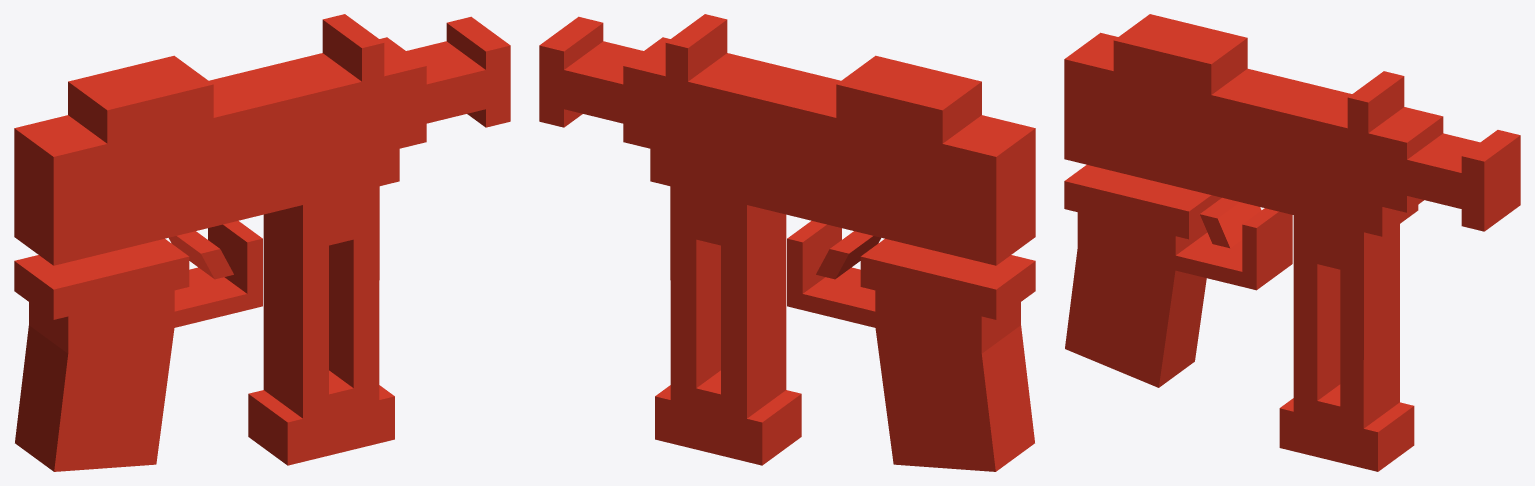
The model's file is Icon_UZI_01.fbx.
3 renders of one model, left to right at view 1: azimuth 30°, elevation 25°; view 2: azimuth 150°, elevation 25°; view 3: azimuth 330°, elevation 25°, orthographic. The views are drawn at different scales.
Visible parts, largest first — view 1: Icon_UZI_01; view 2: Icon_UZI_01; view 3: Icon_UZI_01.
Boxes of the visible parts, x1=… form: Icon_UZI_01: x1=14, y1=14, x2=510, y2=471; Icon_UZI_01: x1=539, y1=14, x2=1035, y2=471; Icon_UZI_01: x1=1064, y1=14, x2=1520, y2=471.
Size of the model in its own units: 80.93 by 67.57 by 12.06.
